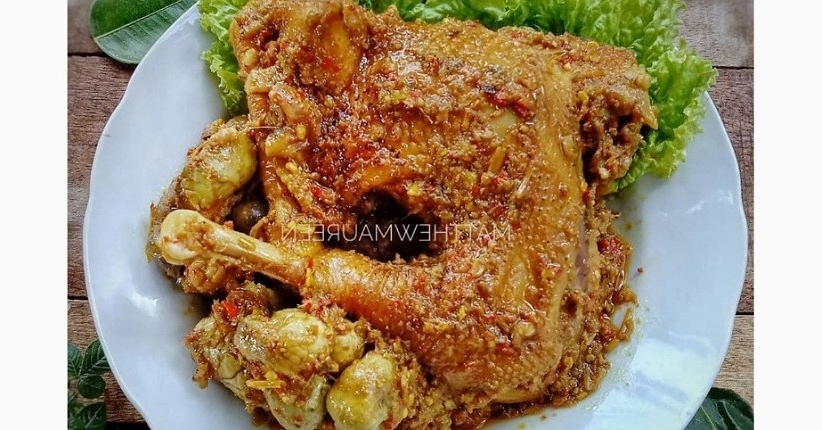ayam_betutu: (155, 6, 655, 430)
